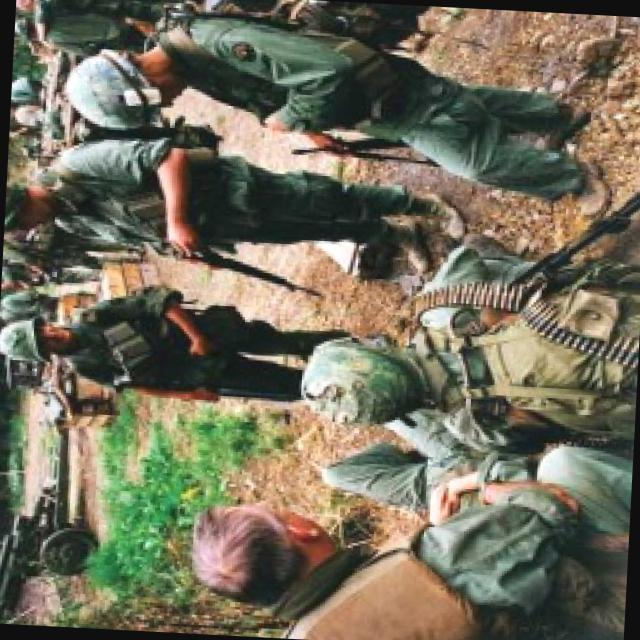long weapon: (149, 199, 342, 321), (272, 117, 430, 201)
